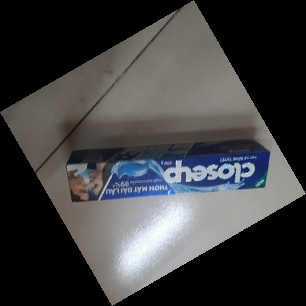CloseUp Tuyet: (63, 138, 270, 206)
